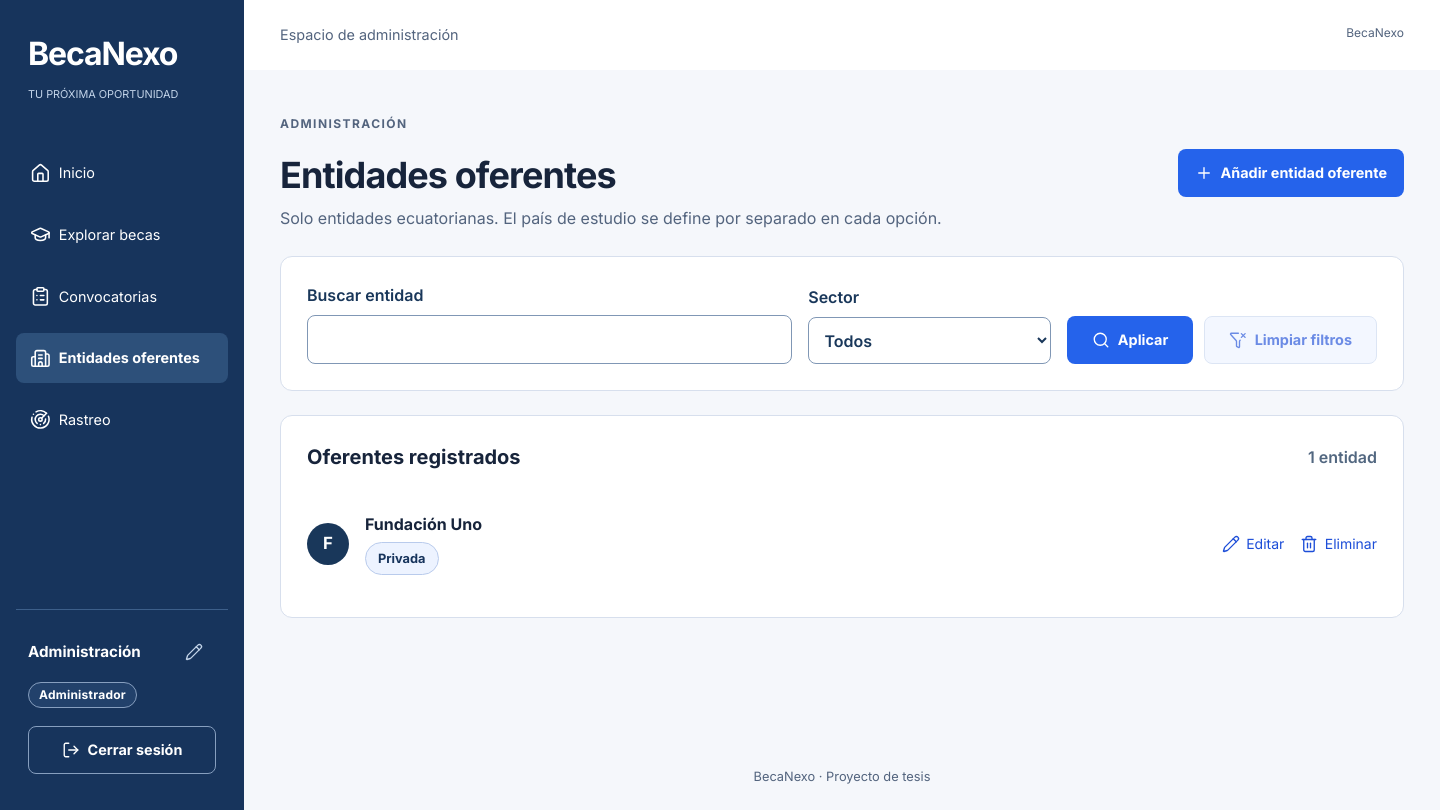
it: «Editar» abre el mismo diálogo con los datos; se cierra con Esc y con la X; el foco queda atrapado
The width and height of the screenshot is (1440, 810).
Expected: the text "Fundación Uno" is shown, left=365, top=514, right=482, bottom=534
Click the button with aria-label "Editar Fundación Uno" at x=1253, y=544, box left=1222, top=525, right=1284, bottom=562
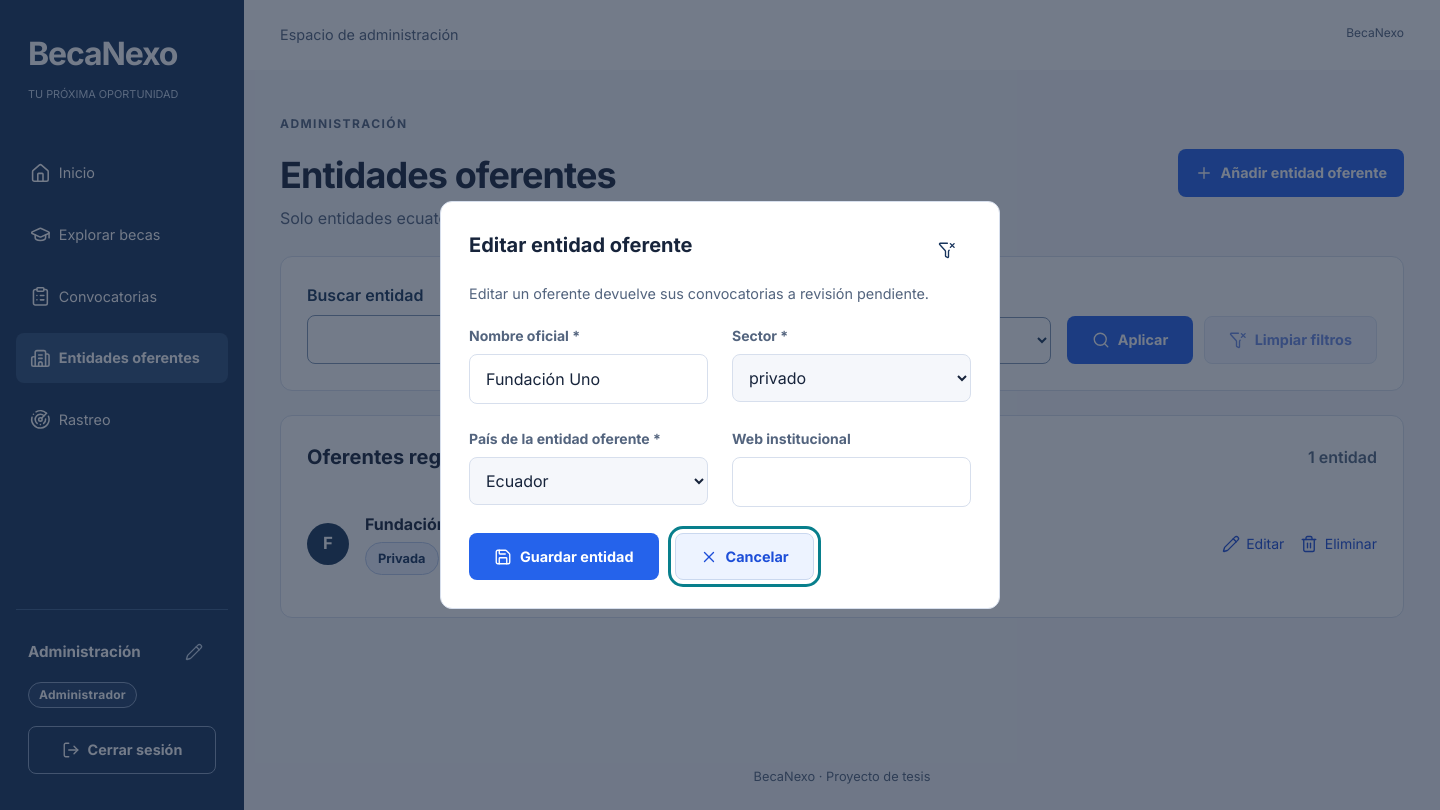
Expected: the field labelled "Nombre oficial *" holds "Fundación Uno", left=469, top=354, right=708, bottom=404
Expected: the dropdown labelled "Sector *" shows "privado", left=732, top=354, right=971, bottom=402
Press Tab
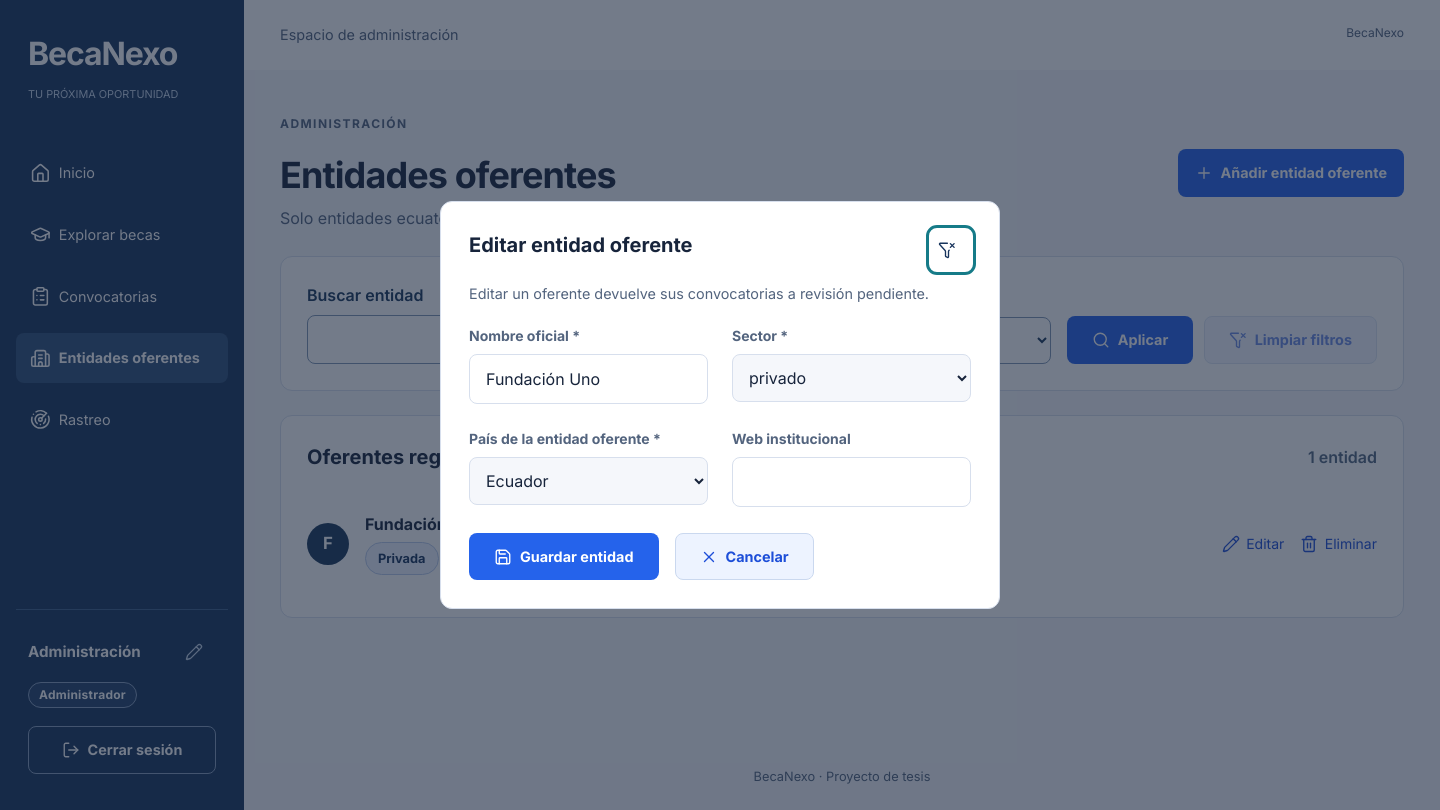
Press Shift+Tab
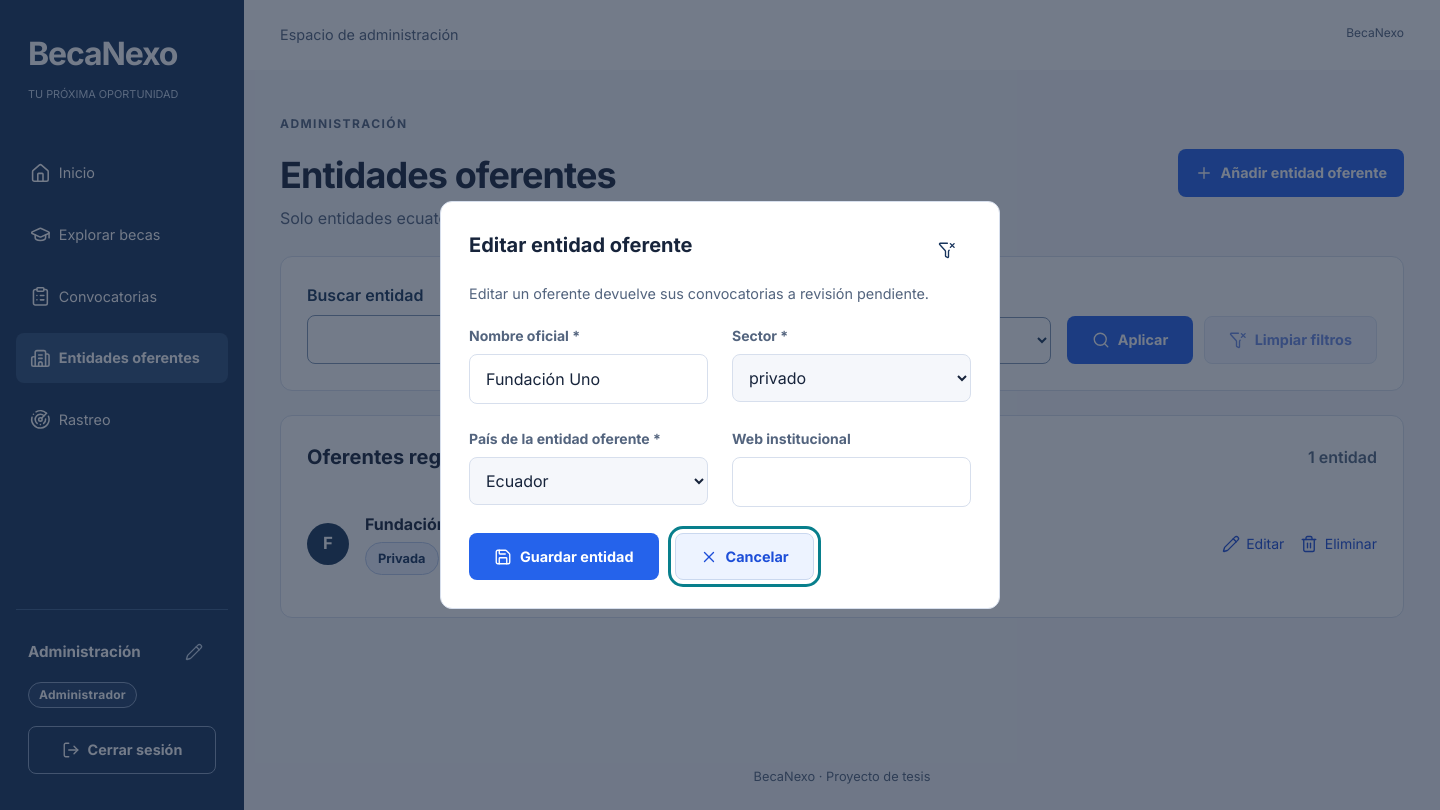
Press Escape in the dialog "Editar entidad oferente", box left=440, top=201, right=1000, bottom=609
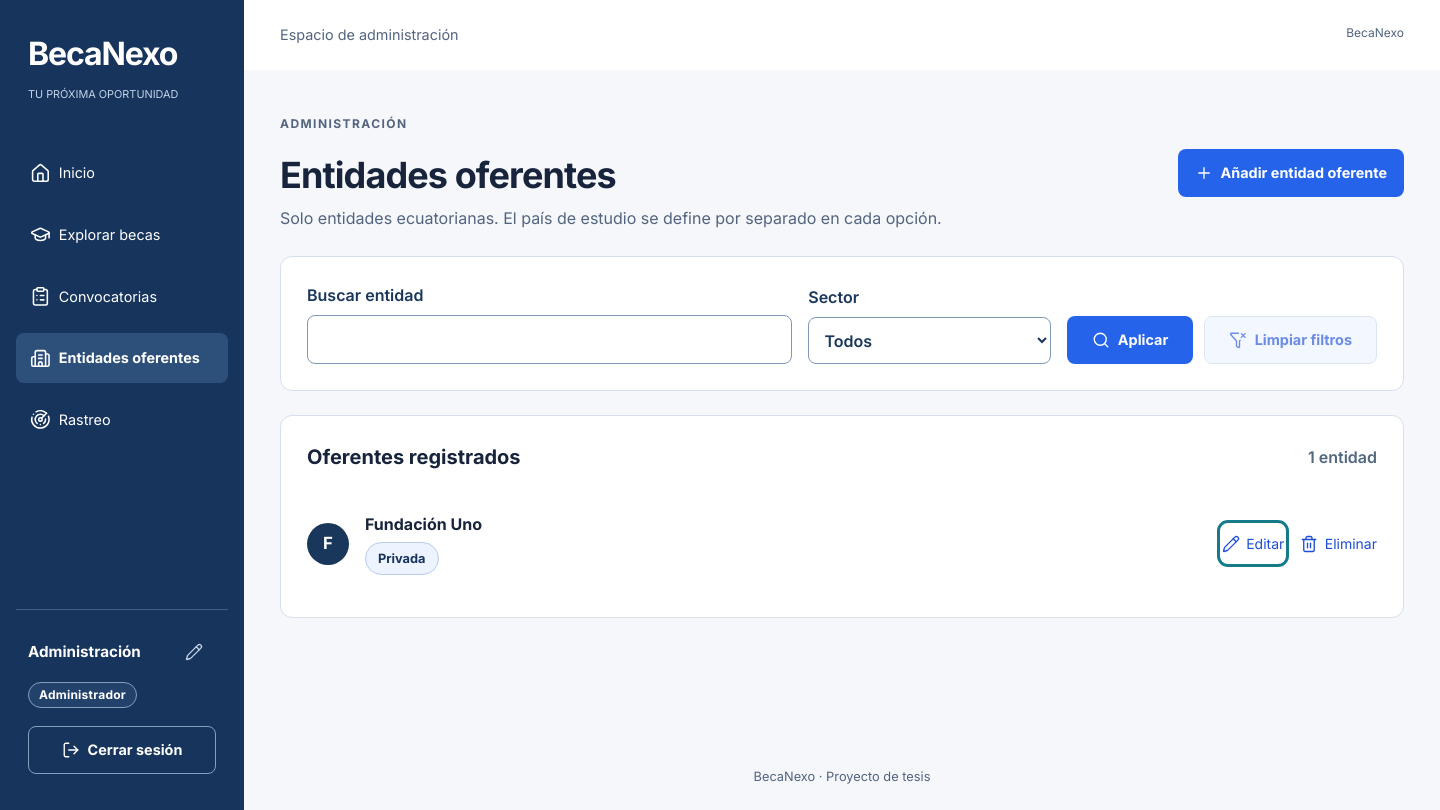
Expected: the dialog is gone
Click the button with aria-label "Editar Fundación Uno" at x=1253, y=544, box left=1222, top=525, right=1284, bottom=562
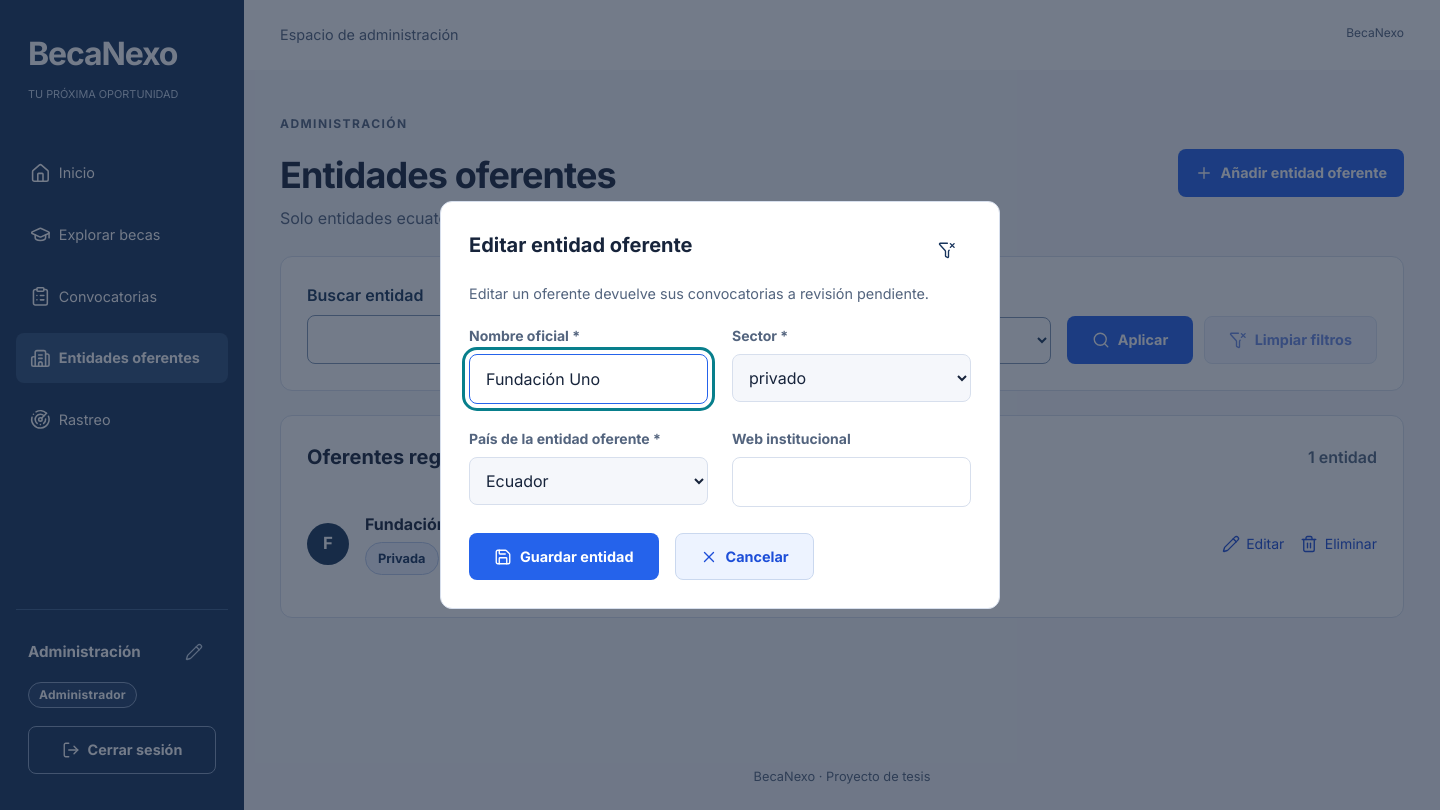
Click the button named "Cerrar" at x=951, y=250, box left=931, top=230, right=971, bottom=270
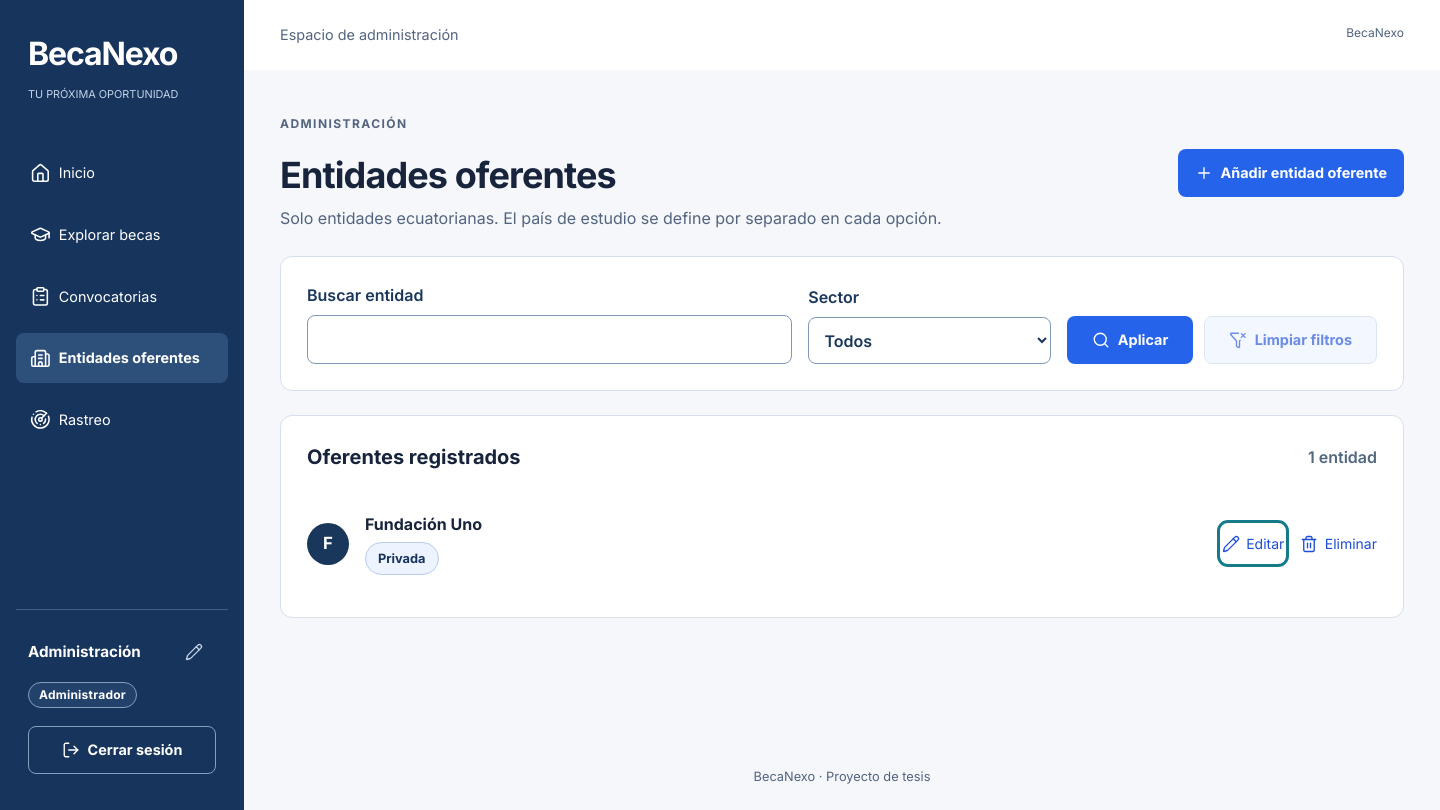
Expected: the dialog is gone
